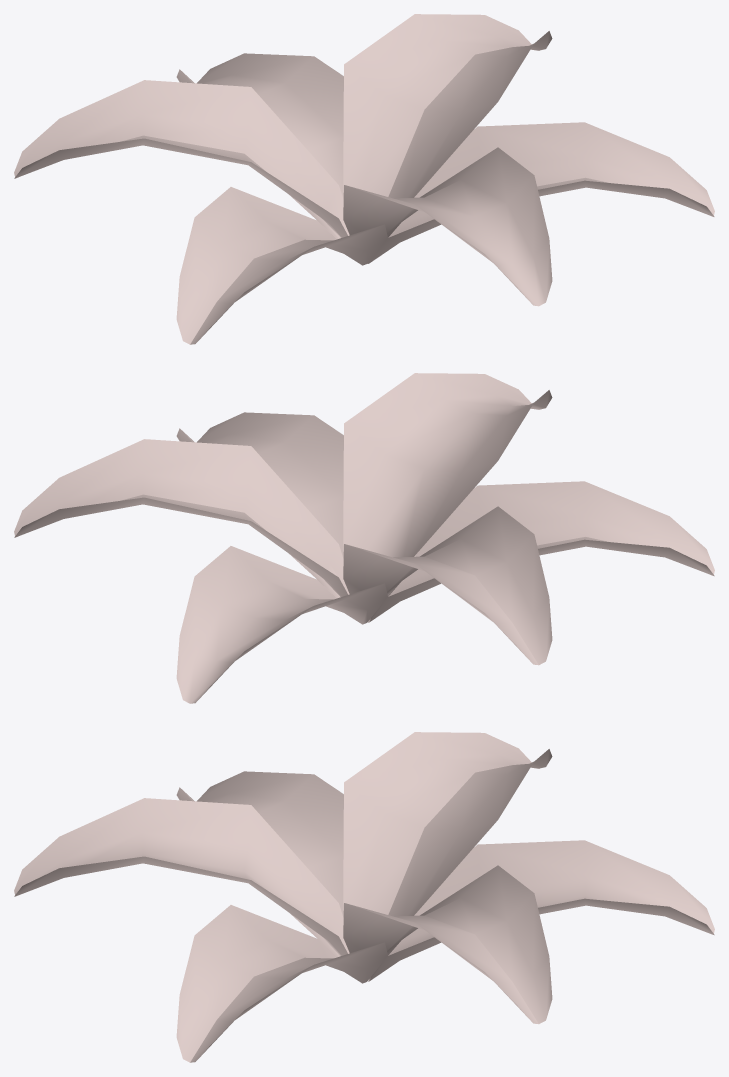
Rendered from flower_Lily.fbx.
The picture shows the model from 3 angles, top to bottom: view 1: azimuth 30°, elevation 25°; view 2: azimuth 150°, elevation 25°; view 3: azimuth 270°, elevation 25°; orthographic projection.
Visible parts, largest first — view 1: flower, flower.001; view 2: flower, flower.001; view 3: flower, flower.001.
Boxes of the visible parts, x1,y1,x2,y2 form: flower: (14,14,714,344); flower.001: (14,14,713,343); flower: (14,373,714,703); flower.001: (14,373,714,703); flower: (14,732,714,1062); flower.001: (14,732,713,1062).
Bounding box in the file's own units: 13.24 × 3.68 × 15.11.
